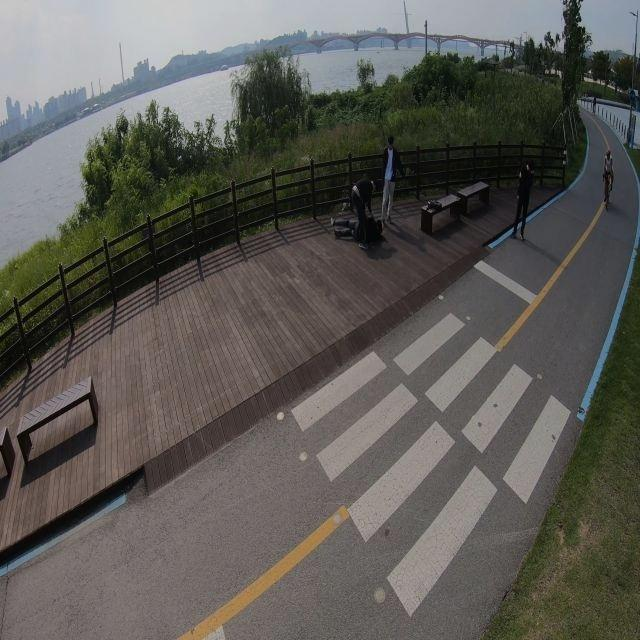fight: (330, 173, 384, 249)
non-fight: (511, 159, 535, 240), (381, 134, 400, 226)
